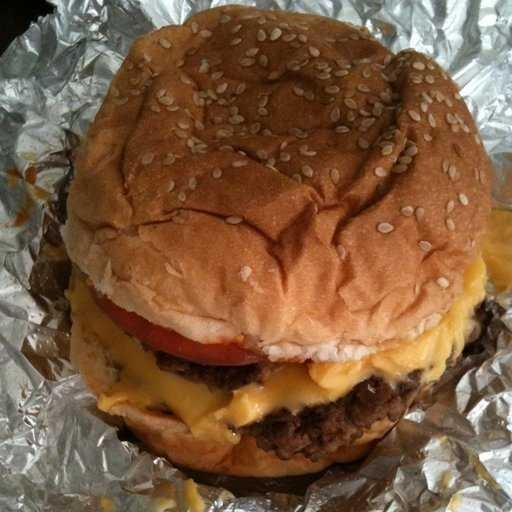hamburger: (28, 7, 495, 472)
